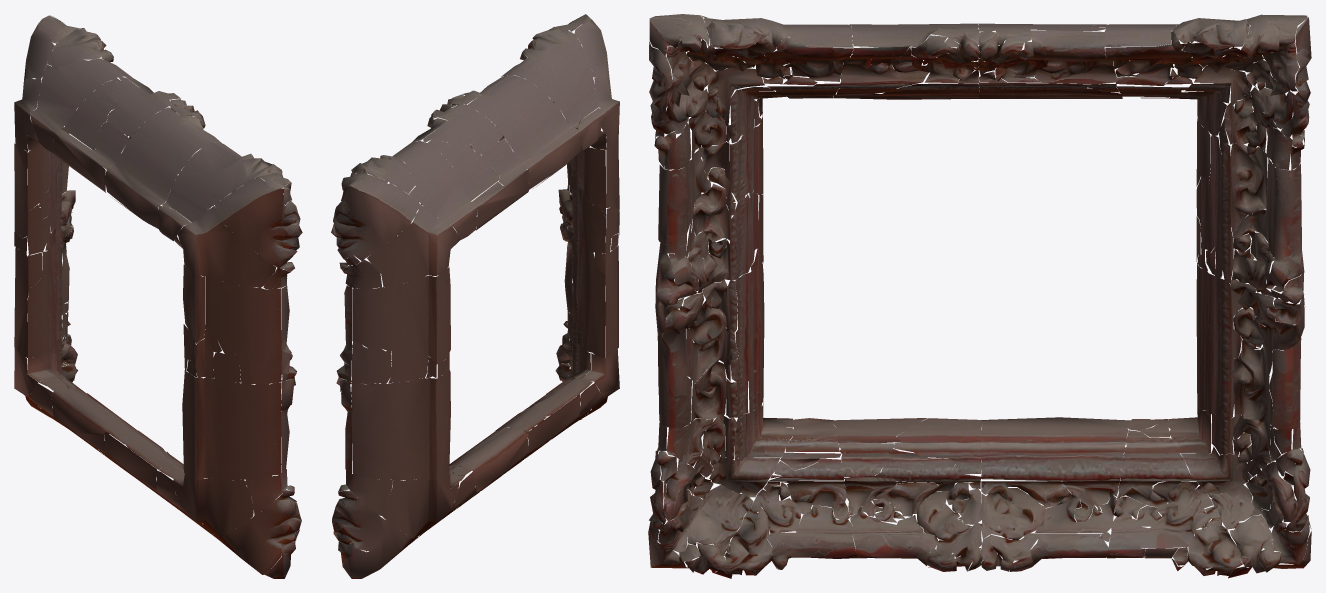
The model's file is Prop_Frame_Portrait.glb.
3 views of the same model, side by side, from view 1: azimuth 30°, elevation 25°; view 2: azimuth 150°, elevation 25°; view 3: azimuth 270°, elevation 25° (orthographic). The views are drawn at different scales.
Visible parts, largest first — view 1: tripo_node_740cc6c8-ae49-45bf-b7c6-da43697b6ca6; view 2: tripo_node_740cc6c8-ae49-45bf-b7c6-da43697b6ca6; view 3: tripo_node_740cc6c8-ae49-45bf-b7c6-da43697b6ca6.
Part boxes in pixels (box(x1,y1,x2,y2)): tripo_node_740cc6c8-ae49-45bf-b7c6-da43697b6ca6: box(14, 15, 302, 578); tripo_node_740cc6c8-ae49-45bf-b7c6-da43697b6ca6: box(331, 14, 619, 578); tripo_node_740cc6c8-ae49-45bf-b7c6-da43697b6ca6: box(648, 14, 1311, 578).
Bounding box in the file's own units: 0.2094 × 0.9198 × 1.
1 material, 1 textured.
